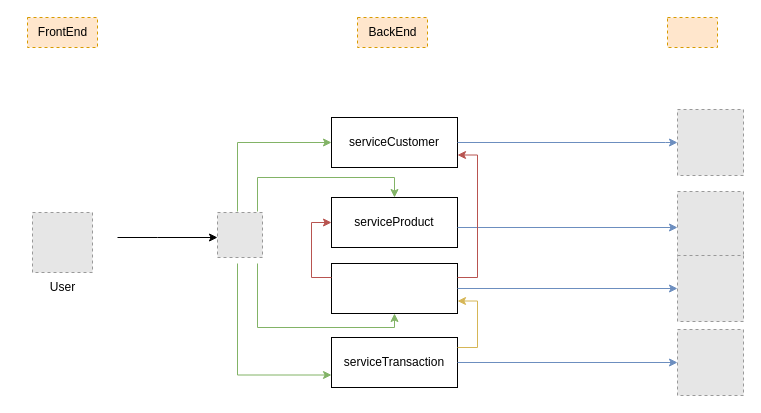
Some shapes in this 761 by 413 pixel diagram are drawn without their labels. Grey dashed boxes stand in for pictures. Each missing label, with the centre of its shape:
"Data" belongs at point 692,32.
"serviceCustomerProduct" belongs at point 394,288.
